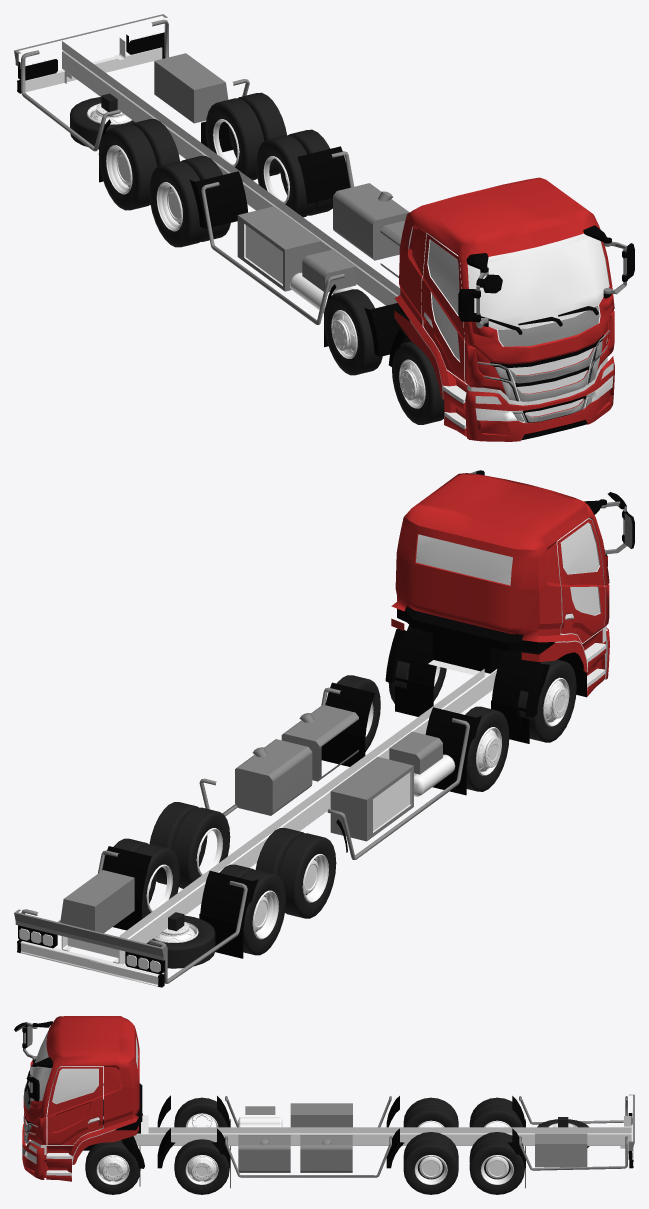
3 renders of one model, top to bottom at view 1: azimuth 30°, elevation 25°; view 2: azimuth 150°, elevation 25°; view 3: azimuth 270°, elevation 25°, orthographic. The views are drawn at different scales.
Parts seen in each view (by area): view 1: Truck_head_Truck_head.L, wheels_Circle, Truck_body_Truck_body.L, Truck_Toolbox1, Truck_door.R, Truck_Fueltank02, Truck_Toolbox, Truck_Brakesys, wheel_Circle.001, Truck_backmirror.L, Truck_backmirror.R; view 2: Truck_head_Truck_head.L, Truck_body_Truck_body.L, wheels_Circle, Truck_Toolbox1, Truck_door.R, Truck_Fueltank02, Truck_Toolbox, Truck_Fueltank01, Truck_Brakesys, wheel_Circle.001, Truck_backmirror.L; view 3: wheels_Circle, Truck_head_Truck_head.L, Truck_body_Truck_body.L, Truck_door.L, Truck_Fueltank02, Truck_Fueltank01, Truck_Toolbox, Truck_Toolbox1, Truck_Brakesys, Truck_backmirror.L, Truck_backmirror.R, wheel_Circle.001.
Part boxes in pixels (x1=…): Truck_head_Truck_head.L: x1=388, y1=177, x2=614, y2=441; wheels_Circle: x1=98, y1=92, x2=444, y2=424; Truck_body_Truck_body.L: x1=14, y1=14, x2=411, y2=356; Truck_Toolbox1: x1=237, y1=206, x2=321, y2=291; Truck_door.R: x1=421, y1=233, x2=466, y2=383; Truck_Fueltank02: x1=333, y1=183, x2=409, y2=260; Truck_Toolbox: x1=154, y1=53, x2=228, y2=123; Truck_Brakesys: x1=289, y1=249, x2=356, y2=313; wheel_Circle.001: x1=70, y1=93, x2=135, y2=149; Truck_backmirror.L: x1=458, y1=253, x2=502, y2=328; Truck_backmirror.R: x1=583, y1=225, x2=634, y2=298; Truck_head_Truck_head.L: x1=385, y1=473, x2=609, y2=743; Truck_body_Truck_body.L: x1=14, y1=660, x2=521, y2=987; wheels_Circle: x1=113, y1=659, x2=576, y2=955; Truck_Toolbox1: x1=330, y1=757, x2=413, y2=841; Truck_door.R: x1=556, y1=518, x2=604, y2=643; Truck_Fueltank02: x1=235, y1=739, x2=312, y2=815; Truck_Toolbox: x1=60, y1=870, x2=134, y2=933; Truck_Fueltank01: x1=281, y1=704, x2=358, y2=781; Truck_Brakesys: x1=389, y1=731, x2=455, y2=796; wheel_Circle.001: x1=147, y1=912, x2=215, y2=968; Truck_backmirror.L: x1=584, y1=492, x2=634, y2=556; wheels_Circle: x1=85, y1=1097, x2=524, y2=1194; Truck_head_Truck_head.L: x1=22, y1=1016, x2=144, y2=1186; Truck_body_Truck_body.L: x1=133, y1=1094, x2=634, y2=1188; Truck_door.L: x1=47, y1=1066, x2=102, y2=1144; Truck_Fueltank02: x1=300, y1=1135, x2=352, y2=1172; Truck_Fueltank01: x1=238, y1=1135, x2=290, y2=1172; Truck_Toolbox: x1=535, y1=1133, x2=587, y2=1167; Truck_Toolbox1: x1=290, y1=1103, x2=352, y2=1127; Truck_Brakesys: x1=238, y1=1106, x2=282, y2=1127; Truck_backmirror.L: x1=14, y1=1021, x2=52, y2=1062; Truck_backmirror.R: x1=29, y1=1057, x2=52, y2=1101; wheel_Circle.001: x1=537, y1=1117, x2=589, y2=1147.
Size of what is drawn, in the model's own units: 1.99 by 2.21 by 9.
